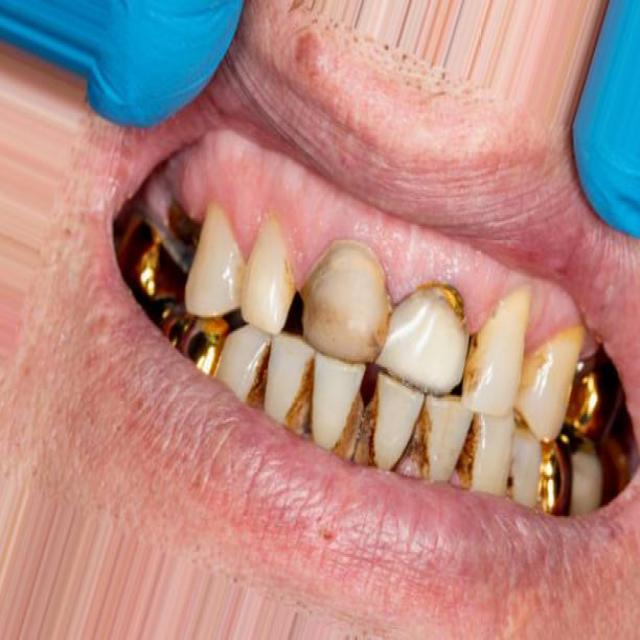caries: (421, 272, 475, 328)
